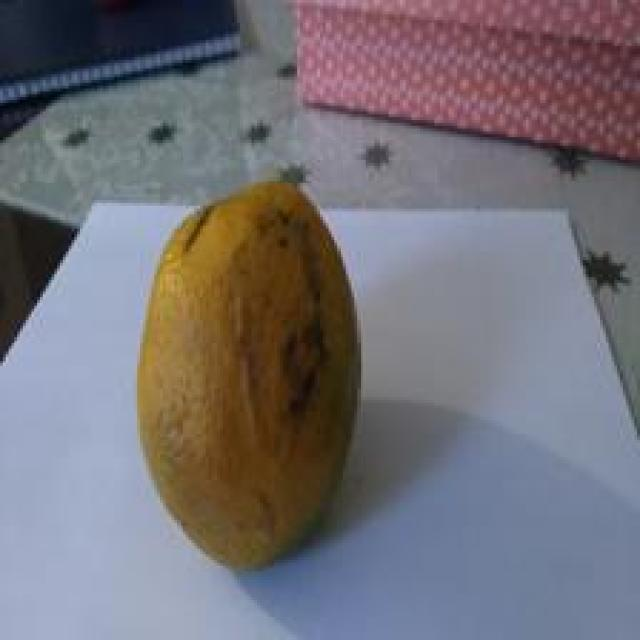overripe: (130, 176, 364, 578)
